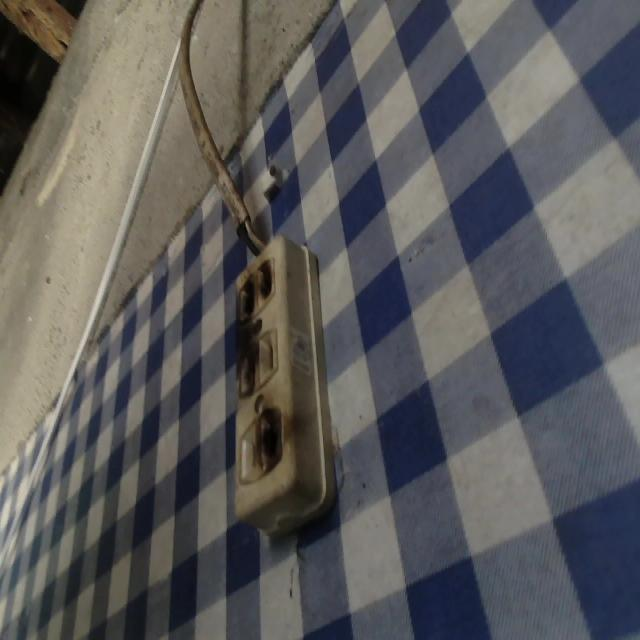-: (233, 252, 276, 320), (254, 403, 287, 472), (236, 339, 261, 393)
